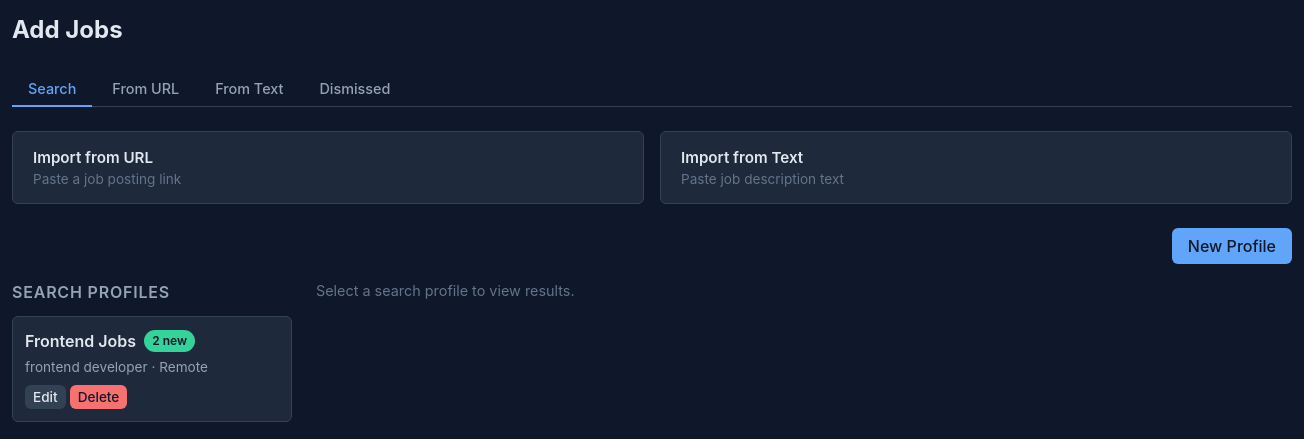
Test: Search Page — selectProfile loads persisted results › shows loading state while fetching postings for selected profile
The width and height of the screenshot is (1304, 439).
Expected: the text "Frontend Jobs" is shown, [25, 331, 136, 351]
Click the text "Frontend Jobs" at coordinates (110, 341), box [25, 330, 195, 352]
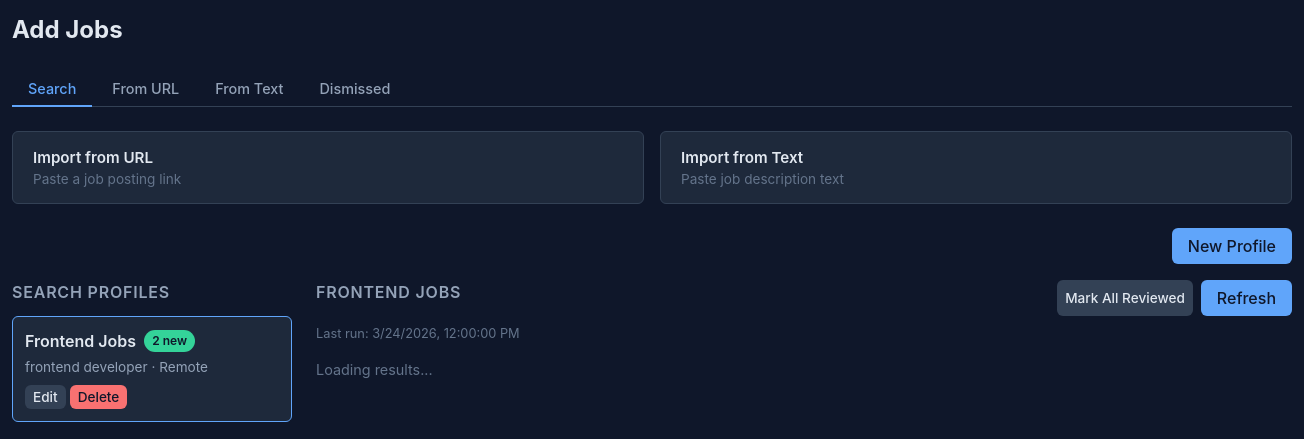
Now the text "Loading results..." is shown, box [316, 361, 433, 378]
